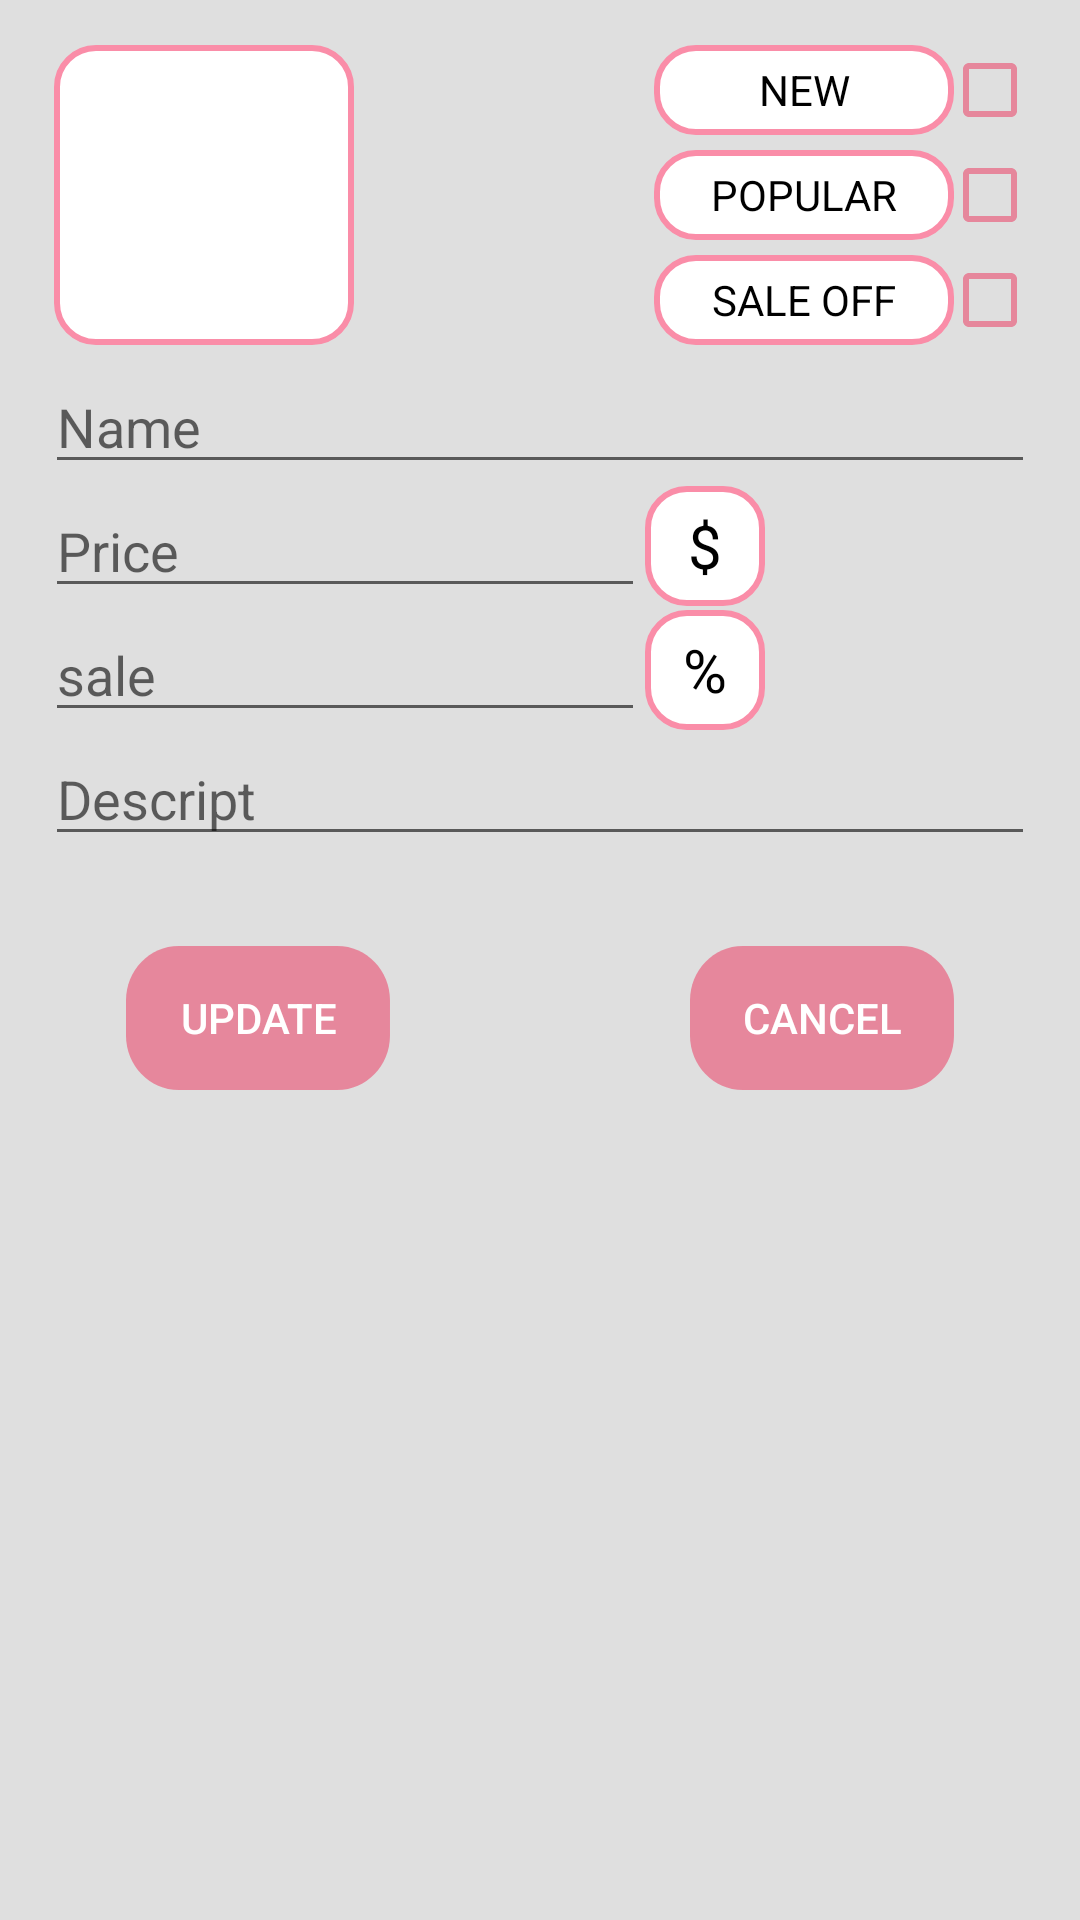

Point at icon controls on the screen. Image size 1080w x 1920h, points as (x,y).
udt checkbox: (990,90), (990,195), (990,300)
